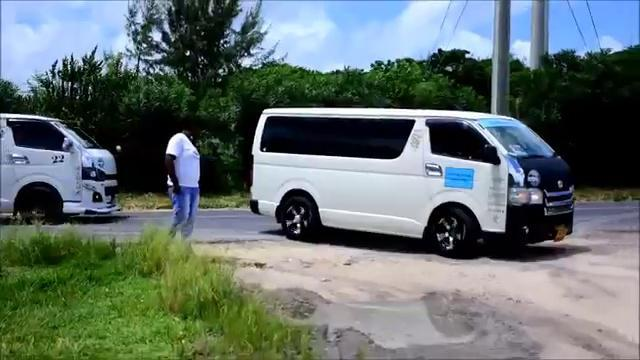van: (254, 103, 582, 253)
